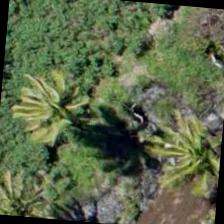Kelapa_Sawit: (0, 59, 97, 158), (144, 100, 223, 197), (0, 156, 58, 220)
